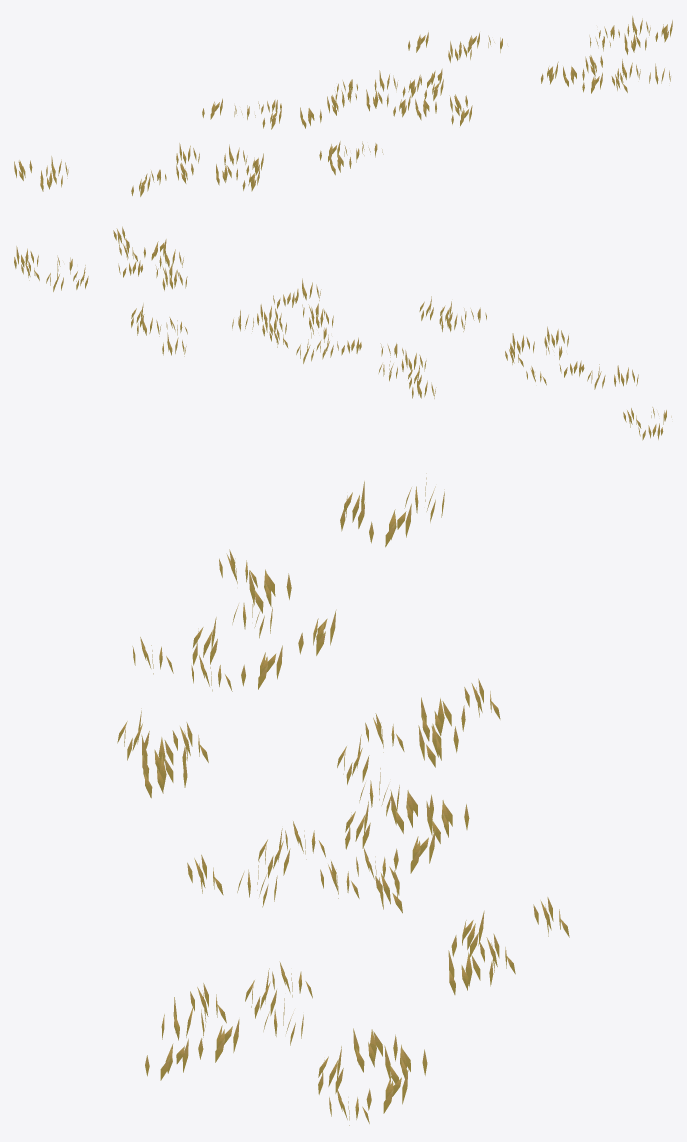
Rendered from plants_un_main_grass_set61_03.gltf.
3 renders of one model, top to bottom at view 1: azimuth 30°, elevation 25°; view 2: azimuth 150°, elevation 25°; view 3: azimuth 270°, elevation 25°, orthographic. The views are drawn at different scales.
Visible parts, largest first — view 1: plants_un_main_grass_set61_03_mesh_shape:plants_un_main_gras; view 2: plants_un_main_grass_set61_03_mesh_shape:plants_un_main_gras; view 3: plants_un_main_grass_set61_03_mesh_shape:plants_un_main_gras.
Part boxes in pixels (left/top/right/bottom): plants_un_main_grass_set61_03_mesh_shape:plants_un_main_gras: left=14, top=16, right=672, bottom=196; plants_un_main_grass_set61_03_mesh_shape:plants_un_main_gras: left=14, top=226, right=671, bottom=440; plants_un_main_grass_set61_03_mesh_shape:plants_un_main_gras: left=117, top=473, right=569, bottom=1125.
Size of what is drawn, in the model's own units: 14.84 by 0.4188 by 4.55.
Materials: 1 (1 with a texture image).
